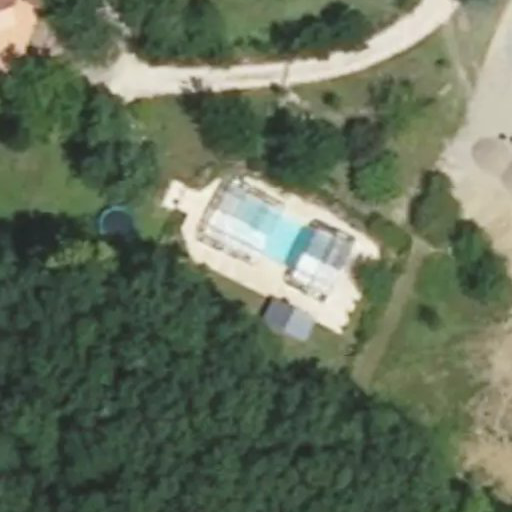pool: (189, 231, 313, 245)
